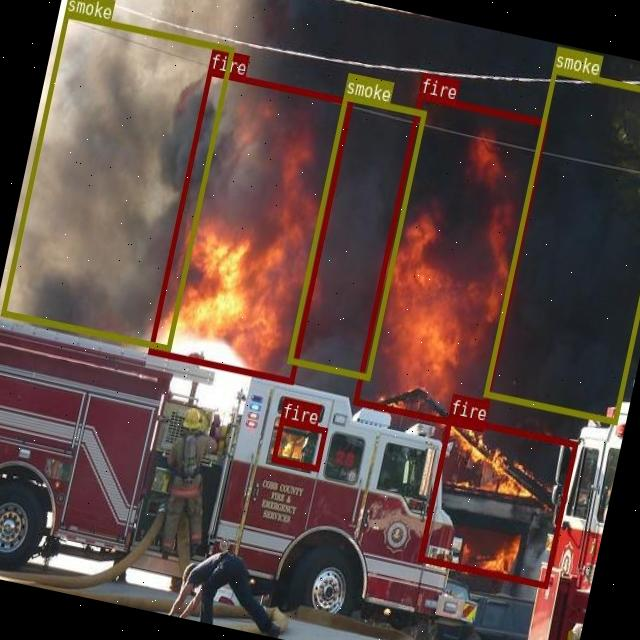fire: (352, 92, 548, 430), (148, 68, 352, 382), (417, 414, 578, 586), (270, 416, 327, 469)
smoke: (0, 10, 233, 349), (483, 67, 640, 423), (286, 93, 426, 379)
